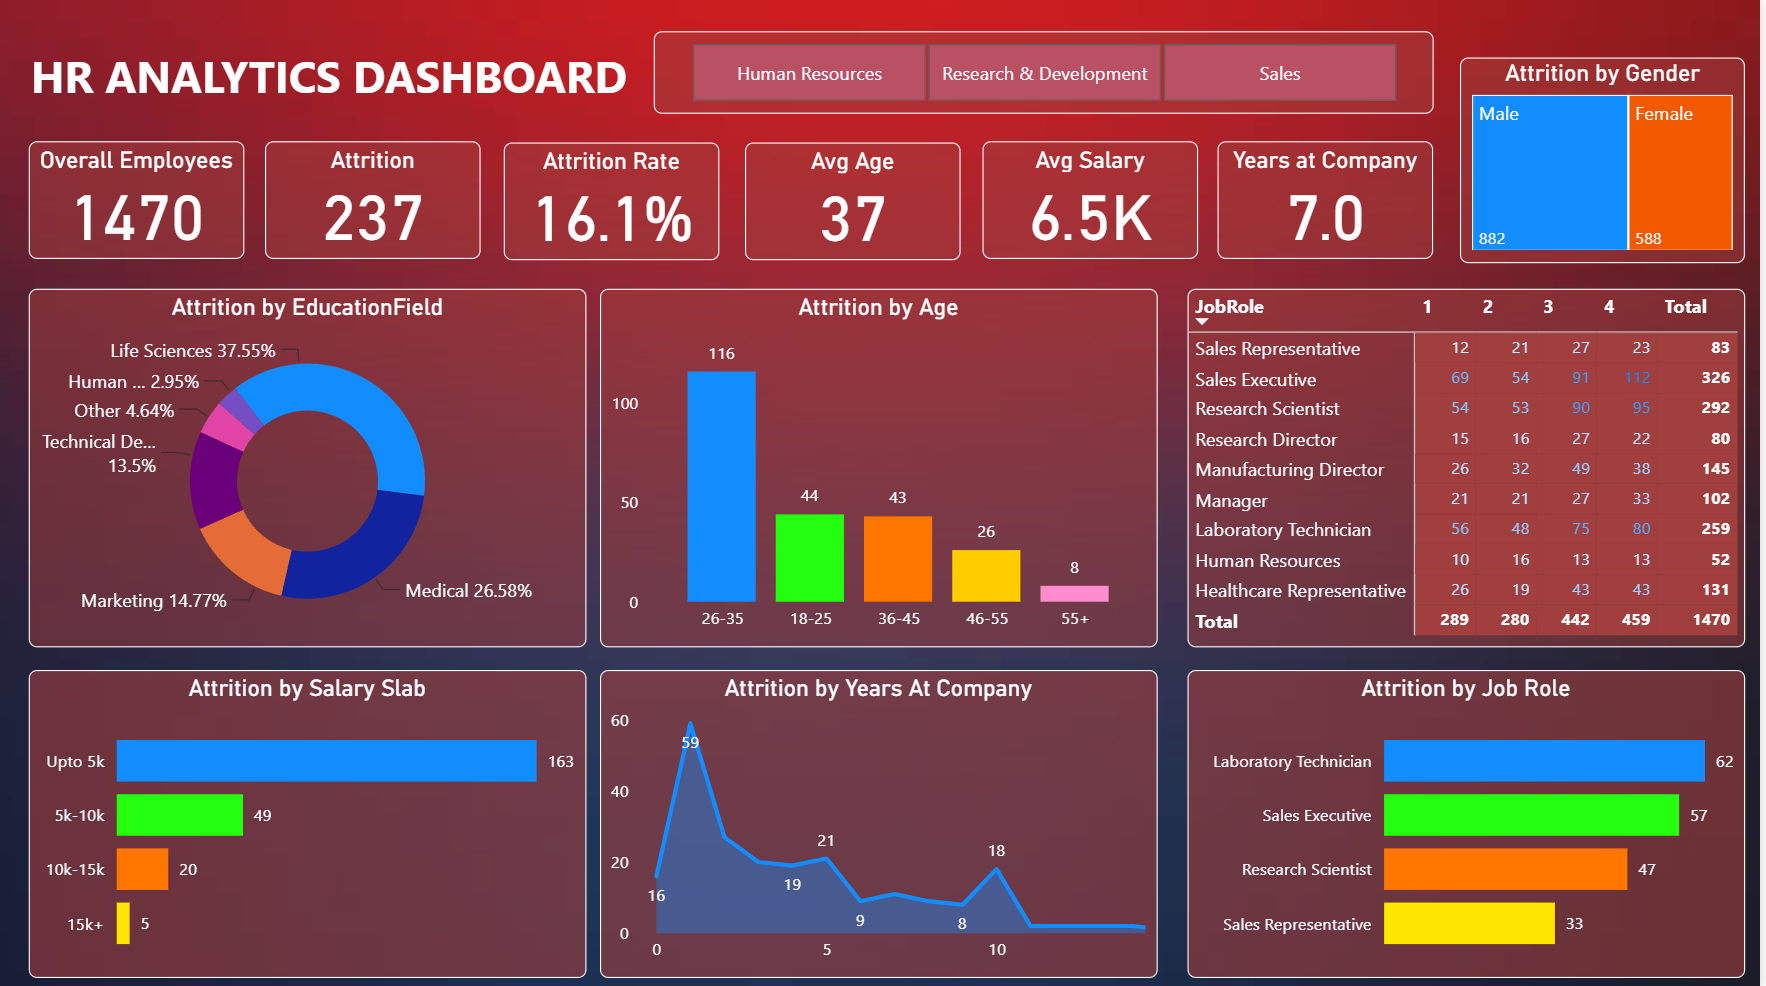

The dashboard page shown, as its layout file describes it:
{"tool":"powerbi","page":{"name":"Page 1","canvas":[1280,720],"ordinal":0},"visuals":[{"type":"card","title":"Overall Employees","fields":{"Values":["Sum(HR_Analytics.EmployeeCount)"]},"box":[20.5,102.5,156.8,85.7],"z":0},{"type":"card","title":"Avg Age","fields":{"Values":["Avg(HR_Analytics.Age)"]},"box":[541.7,103.8,156.8,85.7],"z":1000},{"type":"card","title":"Avg Salary","fields":{"Values":["Avg(HR_Analytics.MonthlyIncome)"]},"box":[714.2,102.5,156.8,85.7],"z":2000},{"type":"card","title":"Years at Company","fields":{"Values":["Avg(HR_Analytics.YearsAtCompany)"]},"box":[885.5,102.5,156.8,85.7],"z":3000},{"type":"card","title":"Attrition","fields":{"Values":["HR_Analytics.Attrition_Yes"]},"box":[193,102.5,156.8,85.7],"z":4000},{"type":"card","title":"Attrition Rate","fields":{"Values":["HR_Analytics.AttritionRate"]},"box":[366.8,103.8,156.8,85.7],"z":5000},{"type":"slicer","fields":{"Values":["HR_Analytics.Department"]},"box":[475.1,23.2,567,60.3],"z":6000},{"type":"treemap","title":"Attrition by Gender","fields":{"Group":["HR_Analytics.Gender"],"Values":["CountNonNull(HR_Analytics.Attrition)"]},"box":[1061.9,42.2,207.5,149.6],"z":7000},{"type":"donutChart","title":"Attrition by EducationField","fields":{"Category":["HR_Analytics.EducationField"],"Y":["HR_Analytics.Attrition_Yes"]},"box":[20.5,209.9,405.4,260.6],"z":8000},{"type":"columnChart","title":"Attrition by Age","fields":{"Category":["HR_Analytics.AgeGroup"],"Y":["HR_Analytics.Attrition_Yes"]},"box":[436.7,209.9,405.4,260.6],"z":9000},{"type":"pivotTable","fields":{"Columns":["HR_Analytics.JobSatisfaction"],"Values":["Sum(HR_Analytics.EmployeeCount)"],"Rows":["HR_Analytics.JobRole"]},"box":[863.8,209.9,405.4,260.6],"z":10000},{"type":"barChart","title":"Attrition by Salary Slab","fields":{"Category":["HR_Analytics.SalarySlab"],"Y":["HR_Analytics.Attrition_Yes"]},"box":[20.5,487.4,405.4,224.4],"z":11000},{"type":"areaChart","title":"Attrition by Years At Company","fields":{"Category":["HR_Analytics.YearsAtCompany"],"Y":["HR_Analytics.Attrition_Yes"]},"box":[436.7,487.4,405.4,224.4],"z":12000},{"type":"barChart","title":"Attrition by Job Role","fields":{"Y":["HR_Analytics.Attrition_Yes"],"Category":["HR_Analytics.JobRole"]},"box":[863.8,487.4,405.4,224.4],"z":13000},{"type":"textbox","box":[2.4,27.8,472.9,65.2],"z":14000}]}

Visuals, with their boxes in screenshot pixels (x1, y1, x2, y2), scaled from the page's 1280x720 canvas onto the 1766x986 screenshot:
"Overall Employees" card: <region>28, 140, 245, 258</region>
"Avg Age" card: <region>747, 142, 964, 260</region>
"Avg Salary" card: <region>985, 140, 1202, 258</region>
"Years at Company" card: <region>1222, 140, 1438, 258</region>
"Attrition" card: <region>266, 140, 483, 258</region>
"Attrition Rate" card: <region>506, 142, 722, 260</region>
slicer - HR_Analytics.Department: <region>655, 32, 1438, 114</region>
"Attrition by Gender" treemap: <region>1465, 58, 1751, 263</region>
"Attrition by EducationField" donutChart: <region>28, 287, 588, 644</region>
"Attrition by Age" columnChart: <region>603, 287, 1162, 644</region>
pivotTable - HR_Analytics.JobSatisfaction x Sum(HR_Analytics.EmployeeCount): <region>1192, 287, 1751, 644</region>
"Attrition by Salary Slab" barChart: <region>28, 667, 588, 975</region>
"Attrition by Years At Company" areaChart: <region>603, 667, 1162, 975</region>
"Attrition by Job Role" barChart: <region>1192, 667, 1751, 975</region>
textbox: <region>3, 38, 656, 127</region>
